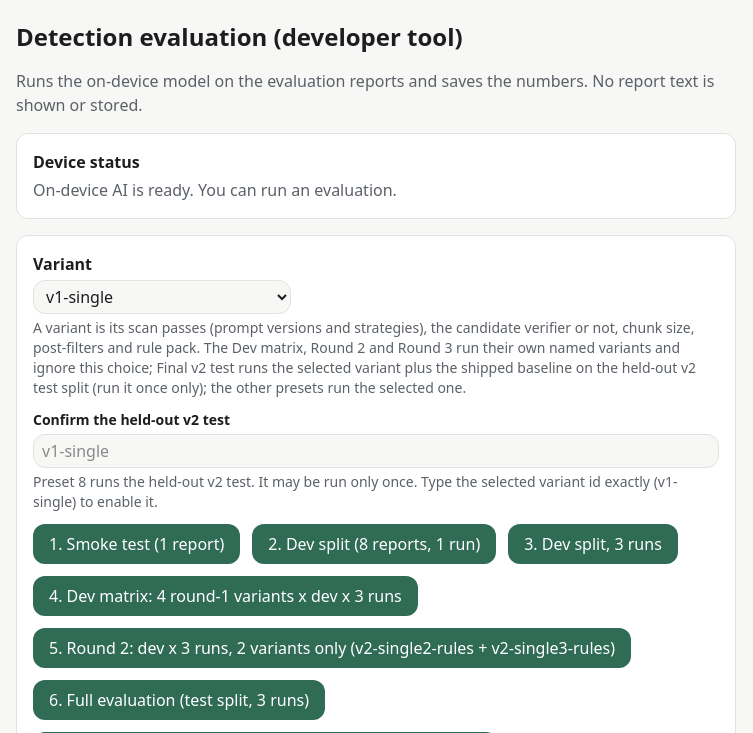
Test: EvalPage › explains a failed run in plain language
Expected: the text "On-device AI is ready. You can run an evaluation." is shown, top-left (33, 179), bottom-right (397, 201)
The test dataset has no test-split reports, so the full evaluation cannot start.
Step 1. Click the button "6. Full evaluation (test split, 3 runs)" → (179, 700), box top-left (33, 680), bottom-right (325, 720)
(page scrolled)
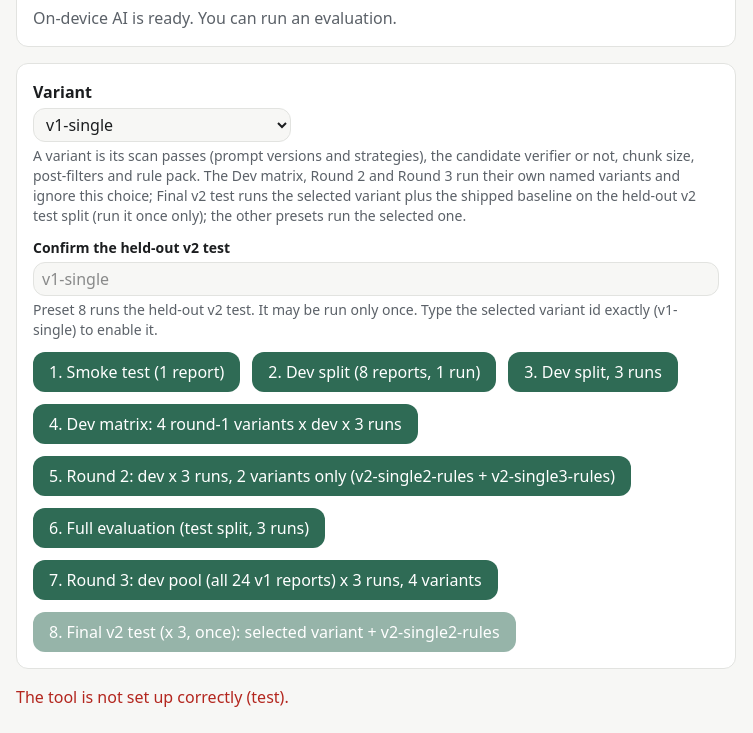
Now the message "The tool is not set up correctly (test)." is shown, box top-left (16, 686), bottom-right (289, 708)
